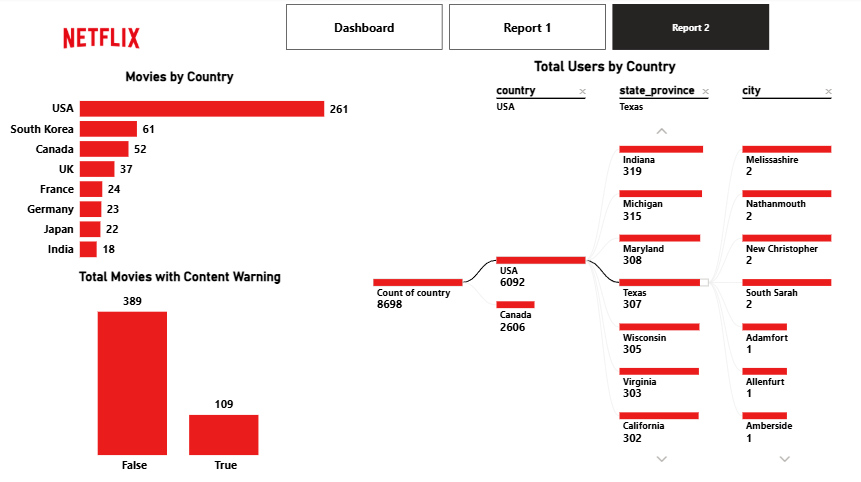

Layout of this report page (visuals, bound fields, positions):
{"tool":"powerbi","page":{"name":"Report 2","canvas":[1280,720],"ordinal":2},"visuals":[{"type":"image","box":[0,0,314.6,121.5],"z":0},{"type":"decompositionTreeVisual","title":"Total Users by Country ","fields":{"ExplainBy":["Users.country","Users.state_province","Users.city"],"Analyze":["Users.country"]},"box":[525.4,89.3,737.6,616.1],"z":1000},{"type":"clusteredBarChart","title":"Movies by Country ","fields":{"Category":["Movies / Content.country_of_origin"],"Y":["Movies / Content.country_of_origin"]},"box":[17.6,105.4,507.8,292.7],"z":2000},{"type":"columnChart","title":"Total Movies with Content Warning","fields":{"Category":["Movies / Content.content_warning"],"Y":["Movies / Content.content_warning"]},"box":[26.3,398,491.7,307.3],"z":3000},{"type":"pageNavigator","box":[427.3,10.2,709.8,67.3],"z":4000}]}

Visuals, with their boxes in screenshot pixels (x1, y1, x2, y2), scaled from the page's 1280x720 canvas onto the 861x482 screenshot:
image: detection(0, 0, 212, 81)
"Total Users by Country " decompositionTreeVisual: detection(353, 60, 850, 472)
"Movies by Country " clusteredBarChart: detection(12, 71, 353, 267)
"Total Movies with Content Warning" columnChart: detection(18, 266, 348, 472)
pageNavigator: detection(287, 7, 765, 52)
